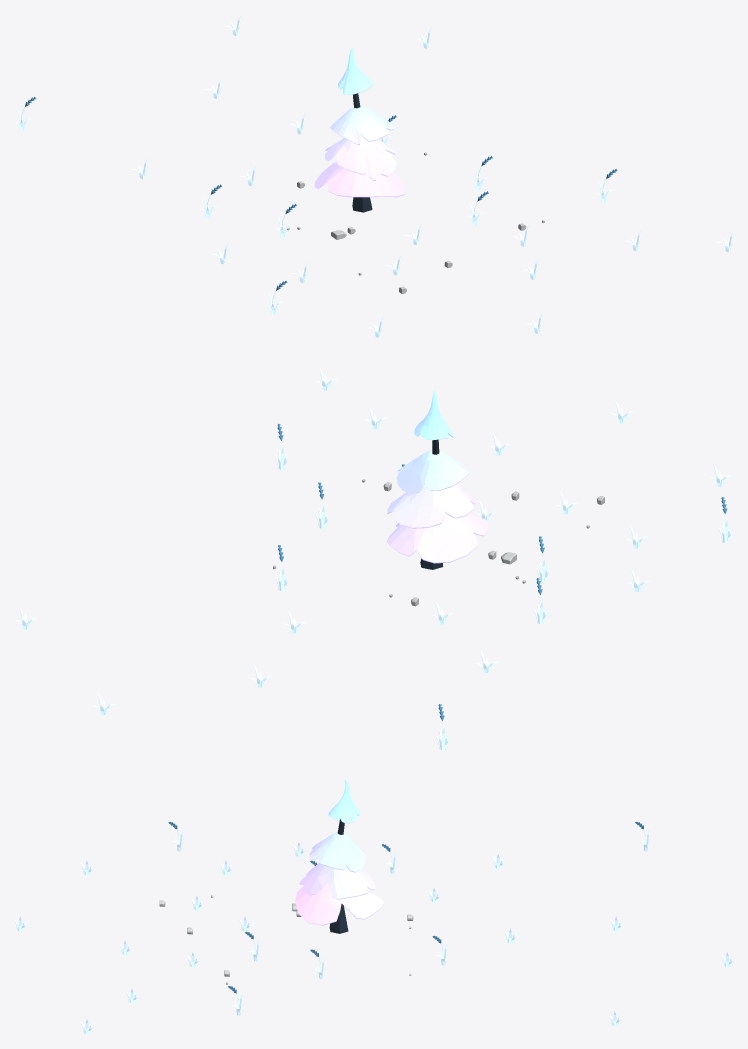
The model's file is treeBig.glb.
3 renders of one model, top to bottom at view 1: azimuth 30°, elevation 25°; view 2: azimuth 150°, elevation 25°; view 3: azimuth 270°, elevation 25°, orthographic. The views are drawn at different scales.
Visible parts, largest first — view 1: PineTree_Autumn_2; view 2: PineTree_Autumn_2; view 3: PineTree_Autumn_2.
Boxes of the visible parts, x1,y1,x2,y2 form: PineTree_Autumn_2: (314, 48, 404, 212); PineTree_Autumn_2: (386, 390, 488, 569); PineTree_Autumn_2: (295, 779, 384, 933).
Size of the model in its own units: 79.03 by 28.83 by 126.
Materials: 54 (1 with a texture image).
